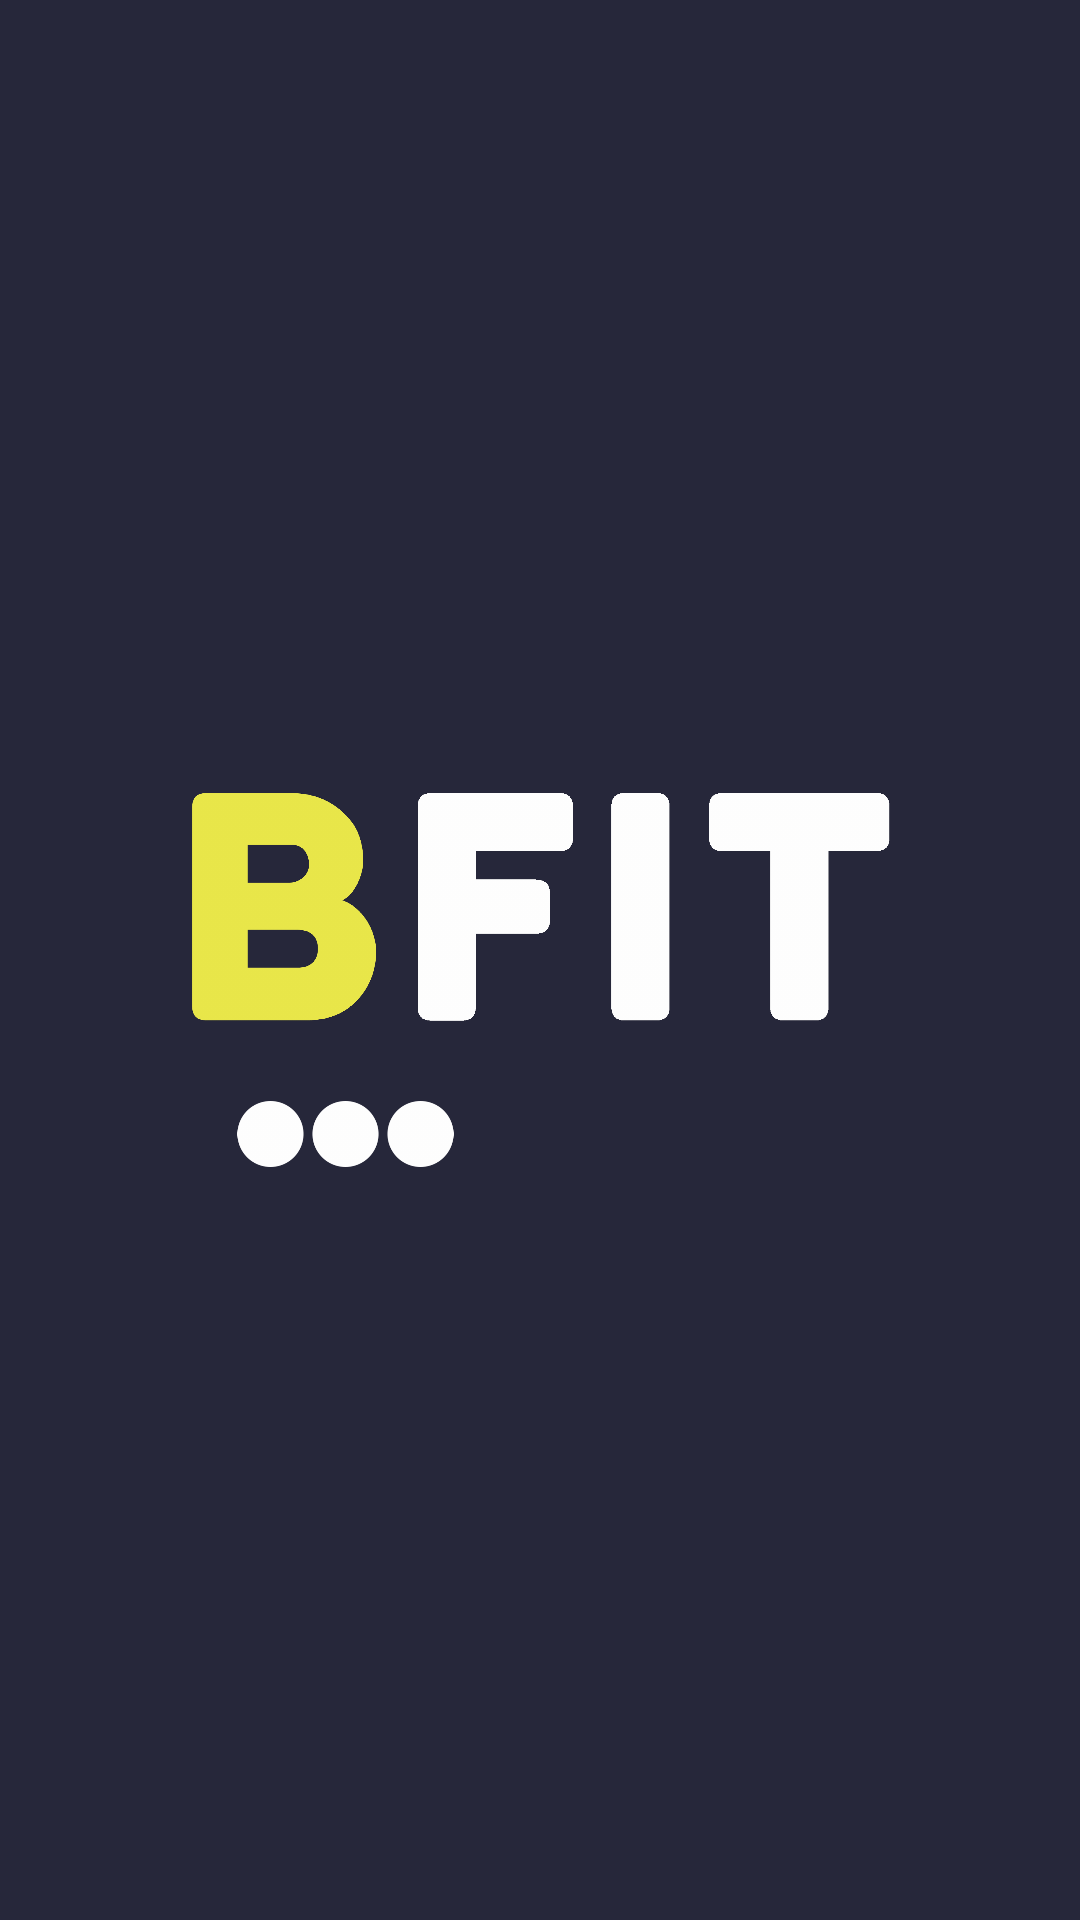

Locate icon controls on the screen. Image size 1080 × 1920, boxes as (x1, y1, x2, y2).
elipse: (237, 1101, 454, 1167)
